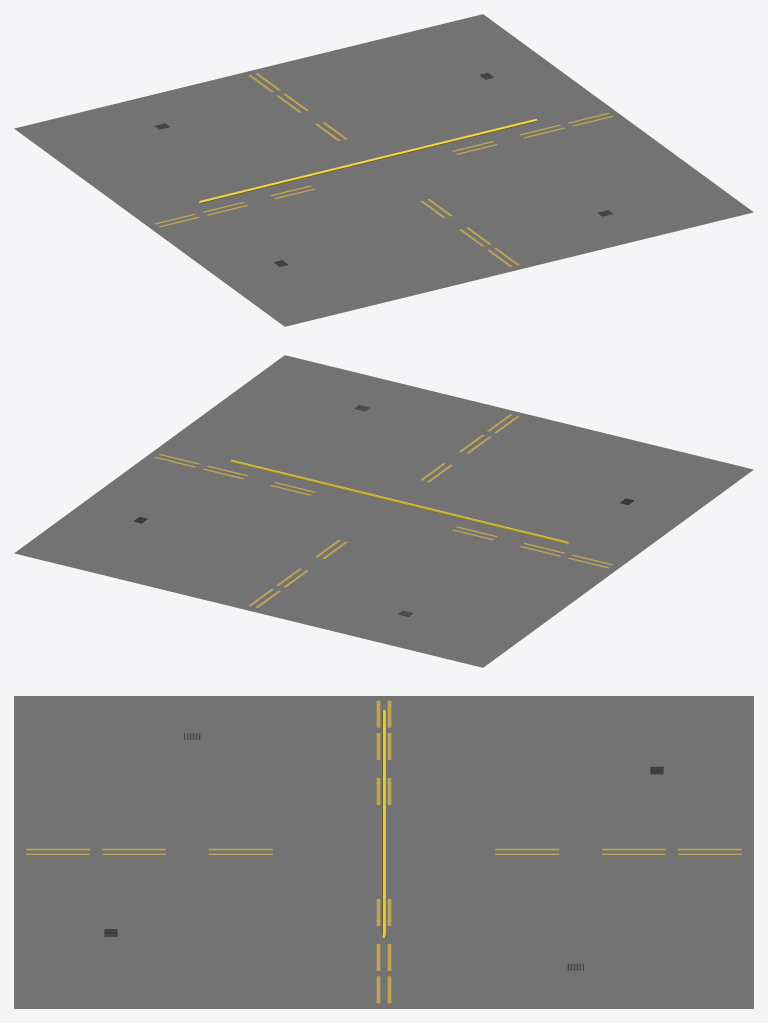
3 renders of one model, top to bottom at view 1: azimuth 30°, elevation 25°; view 2: azimuth 150°, elevation 25°; view 3: azimuth 270°, elevation 25°, orthographic. The views are drawn at different scales.
Parts seen in each view (by area): view 1: RD30L | archived geometry, Fitted street and landscape details, RD30L | line, light and sprite surfaces; view 2: RD30L | archived geometry, Fitted street and landscape details, RD30L | line, light and sprite surfaces; view 3: RD30L | archived geometry, Fitted street and landscape details, RD30L | line, light and sprite surfaces.
Boxes of the visible parts, x1,y1,x2,y2 form: RD30L | archived geometry: (14,14,753,326); Fitted street and landscape details: (154,73,613,266); RD30L | line, light and sprite surfaces: (199,118,537,203); RD30L | archived geometry: (14,355,753,667); Fitted street and landscape details: (133,405,634,616); RD30L | line, light and sprite surfaces: (230,459,568,544); RD30L | archived geometry: (14,696,753,1008); Fitted street and landscape details: (26,700,741,1003); RD30L | line, light and sprite surfaces: (382,710,385,937).
Bounding box in the file's own units: 16 × 0.4656 × 16.
